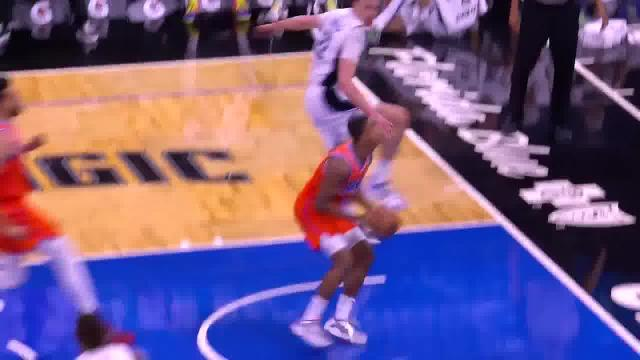ball-handler: (278, 113, 401, 351)
player: (0, 66, 136, 350), (262, 0, 406, 167)
